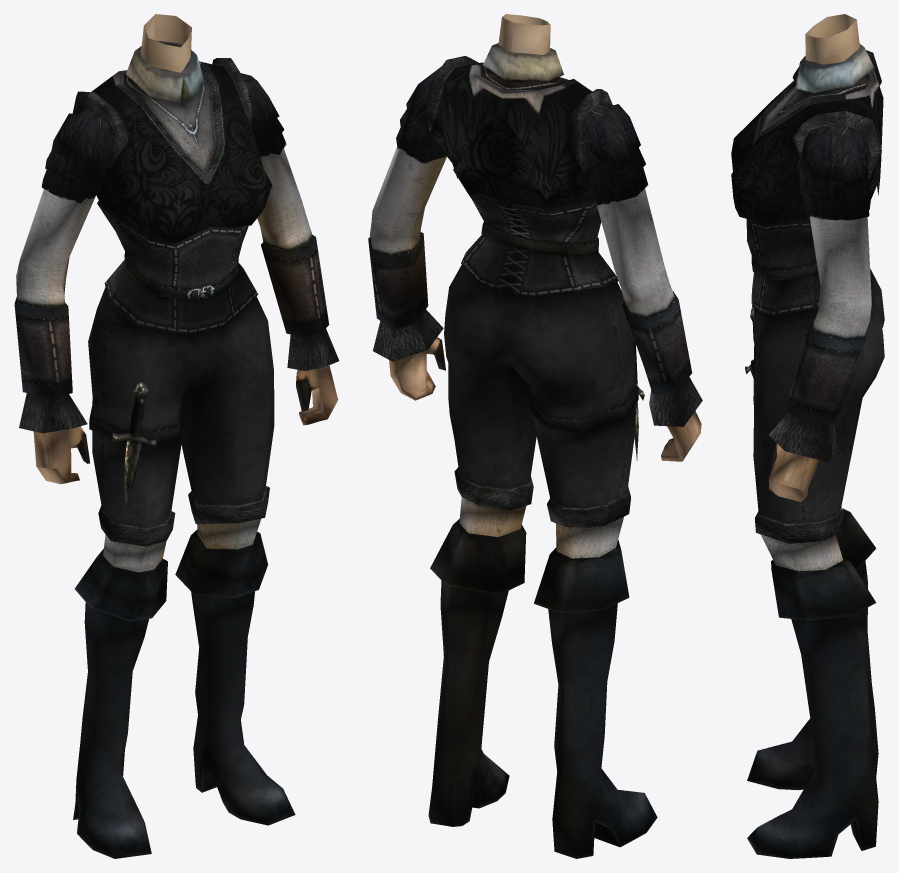
Rendered from HUM_ARMOR_IVY_REMADE.glb.
3 renders of one model, left to right at view 1: azimuth 30°, elevation 25°; view 2: azimuth 150°, elevation 25°; view 3: azimuth 270°, elevation 25°, orthographic. The views are drawn at different scales.
Parts seen in each view (by area): view 1: HUM_ARMOR_IVY_REMADE; view 2: HUM_ARMOR_IVY_REMADE; view 3: HUM_ARMOR_IVY_REMADE.
Part boxes in pixels (x1=…): HUM_ARMOR_IVY_REMADE: x1=14, y1=14, x2=339, y2=858; HUM_ARMOR_IVY_REMADE: x1=368, y1=14, x2=702, y2=858; HUM_ARMOR_IVY_REMADE: x1=731, y1=14, x2=884, y2=858.
Size of the model in its own units: 0.6694 by 1.67 by 0.2931.
2 materials, 2 textured.
